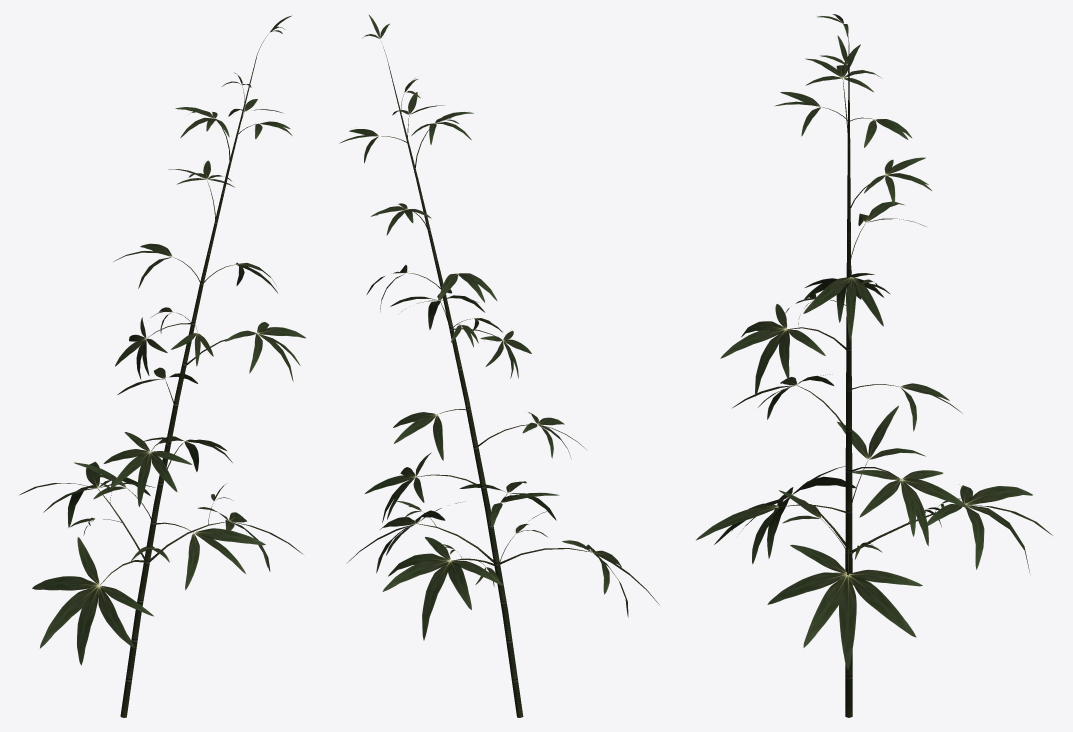
The model's file is bamboo.glb.
3 renders of one model, left to right at view 1: azimuth 30°, elevation 25°; view 2: azimuth 150°, elevation 25°; view 3: azimuth 270°, elevation 25°, orthographic. The views are drawn at different scales.
Parts seen in each view (by area): view 1: Bamboo_Yughues_CC0; view 2: Bamboo_Yughues_CC0; view 3: Bamboo_Yughues_CC0.
Part boxes in pixels (<box>): Bamboo_Yughues_CC0: <box>19,15,305,717</box>; Bamboo_Yughues_CC0: <box>339,14,659,717</box>; Bamboo_Yughues_CC0: <box>696,14,1052,717</box>.
Bounding box in the file's own units: 3.59 × 8 × 3.34.
1 material, 1 textured.
